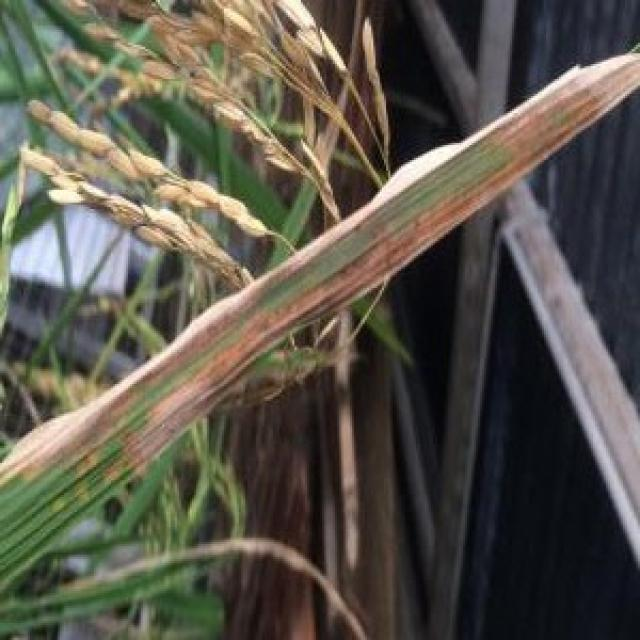leaf blight: (288, 51, 640, 326), (2, 278, 284, 532)
